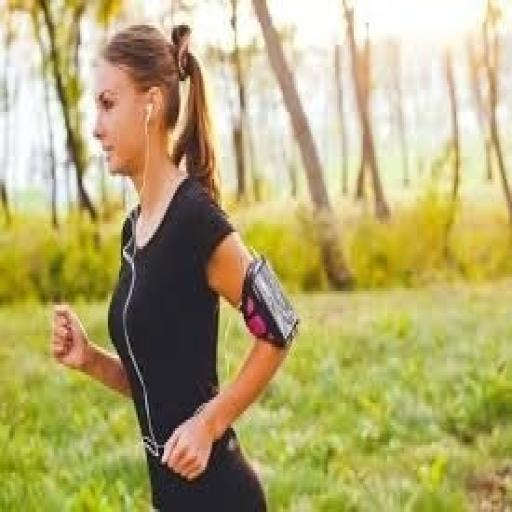running: (48, 20, 302, 509)
